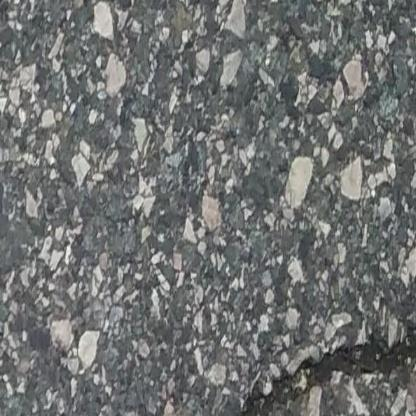Cracks: (204, 322, 416, 416)
